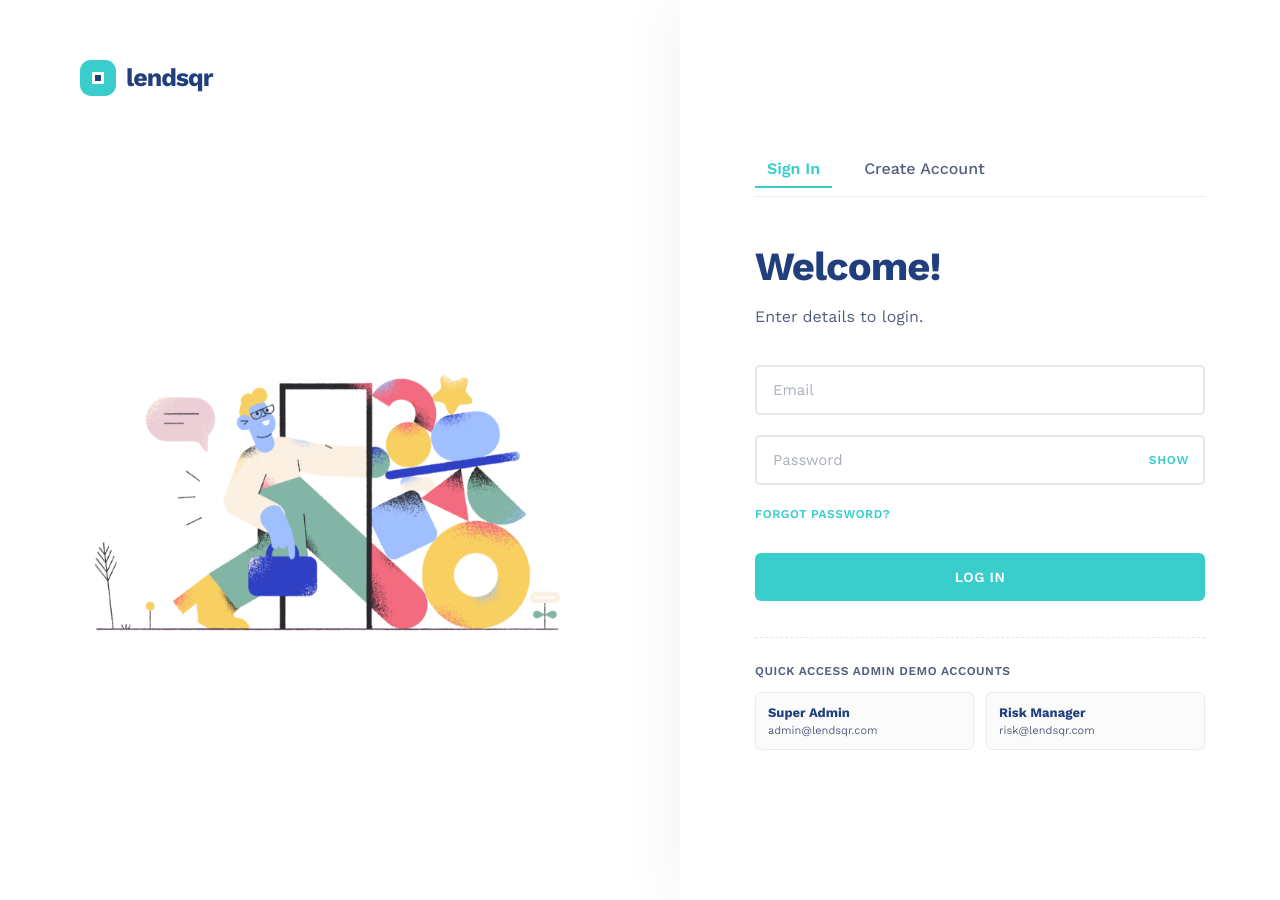
Test case: Login Page › shows error when password is too short
This screenshot has width=1280, height=900.
Type "test@example.com" into the field with placeholder "Email". click: (980, 390)
box: top-left (755, 364), bottom-right (1205, 414)
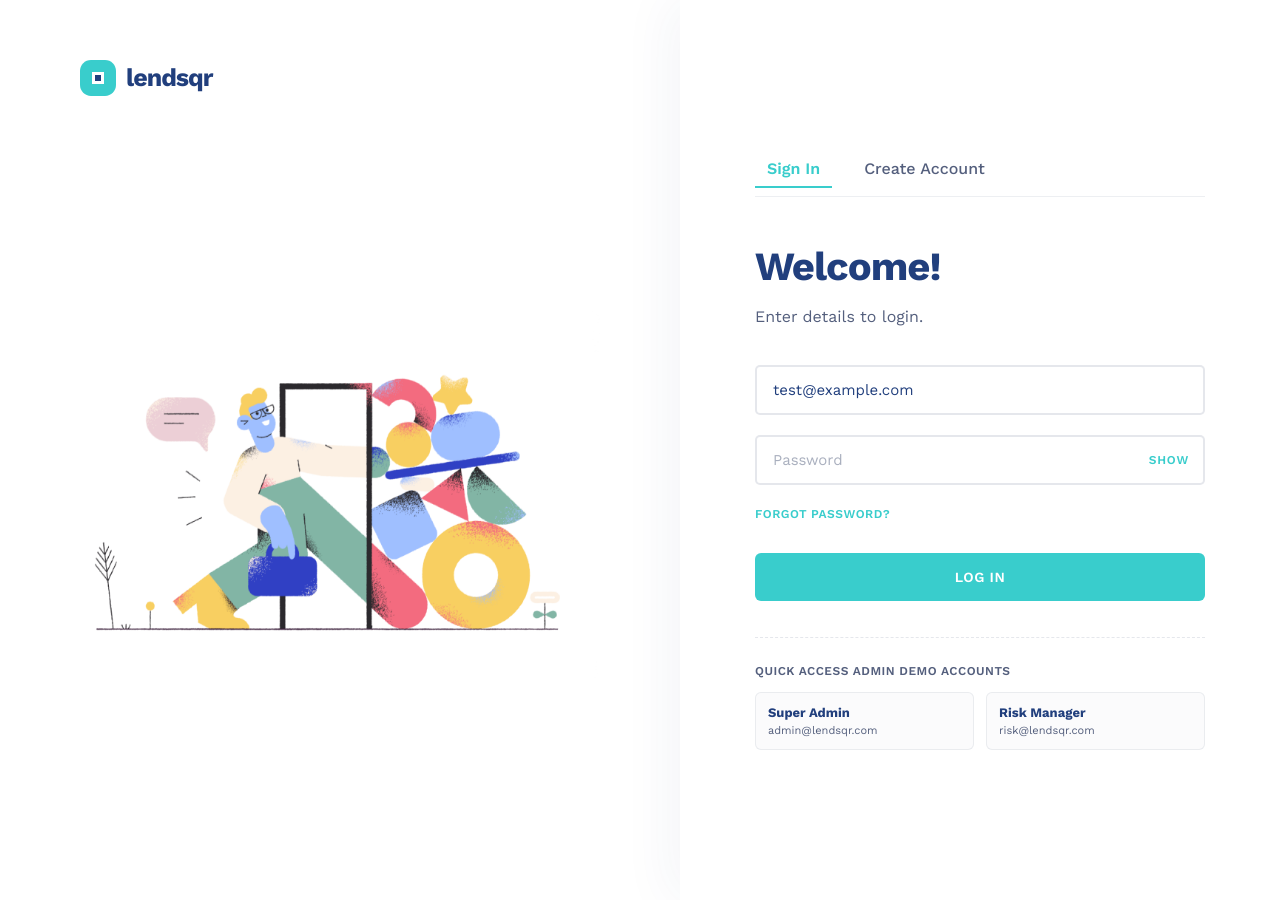
Type "pass" into the password field with placeholder "Password". click: (980, 460)
box: top-left (755, 434), bottom-right (1205, 484)
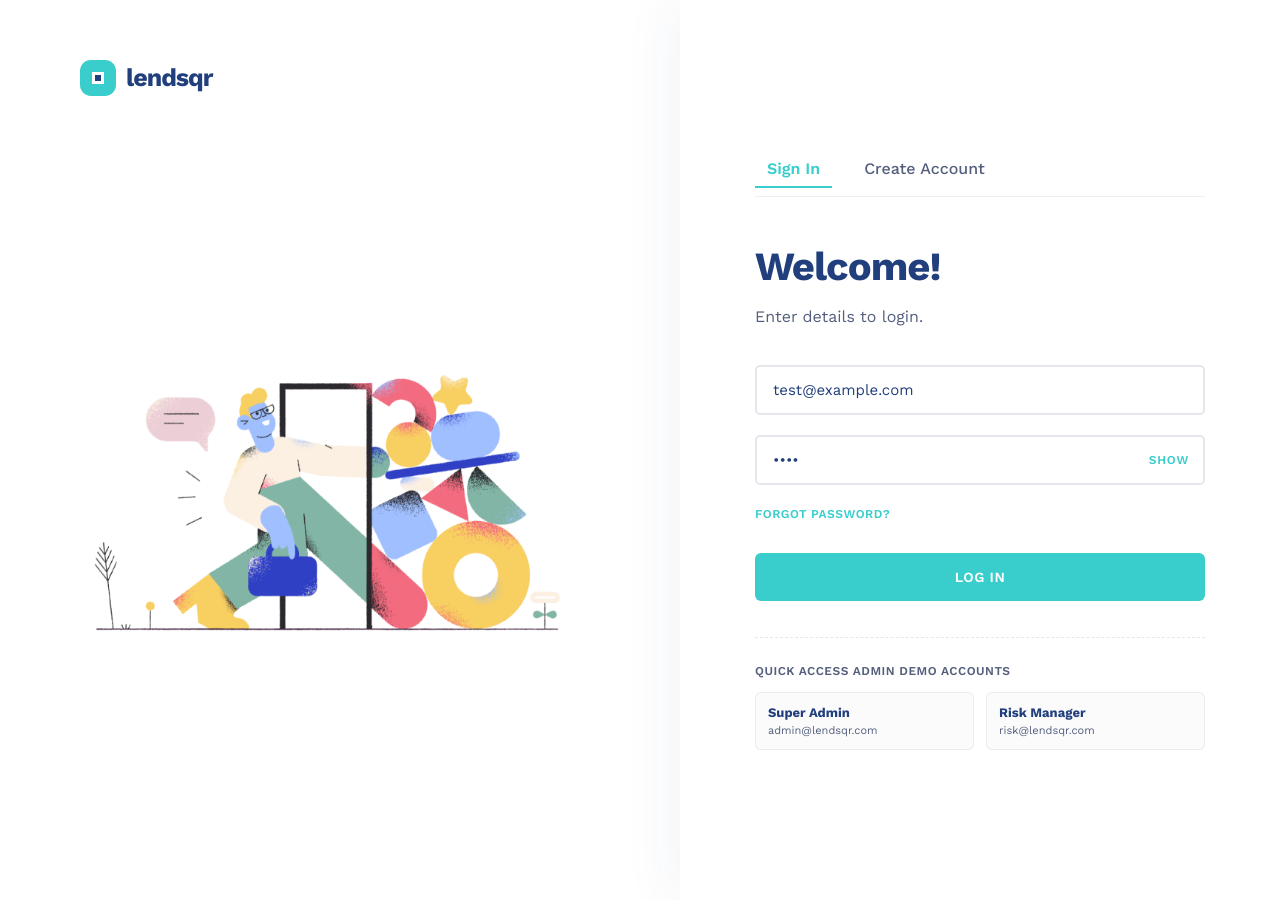
Click the button "LOG IN". click: (980, 576)
box: top-left (755, 552), bottom-right (1205, 600)
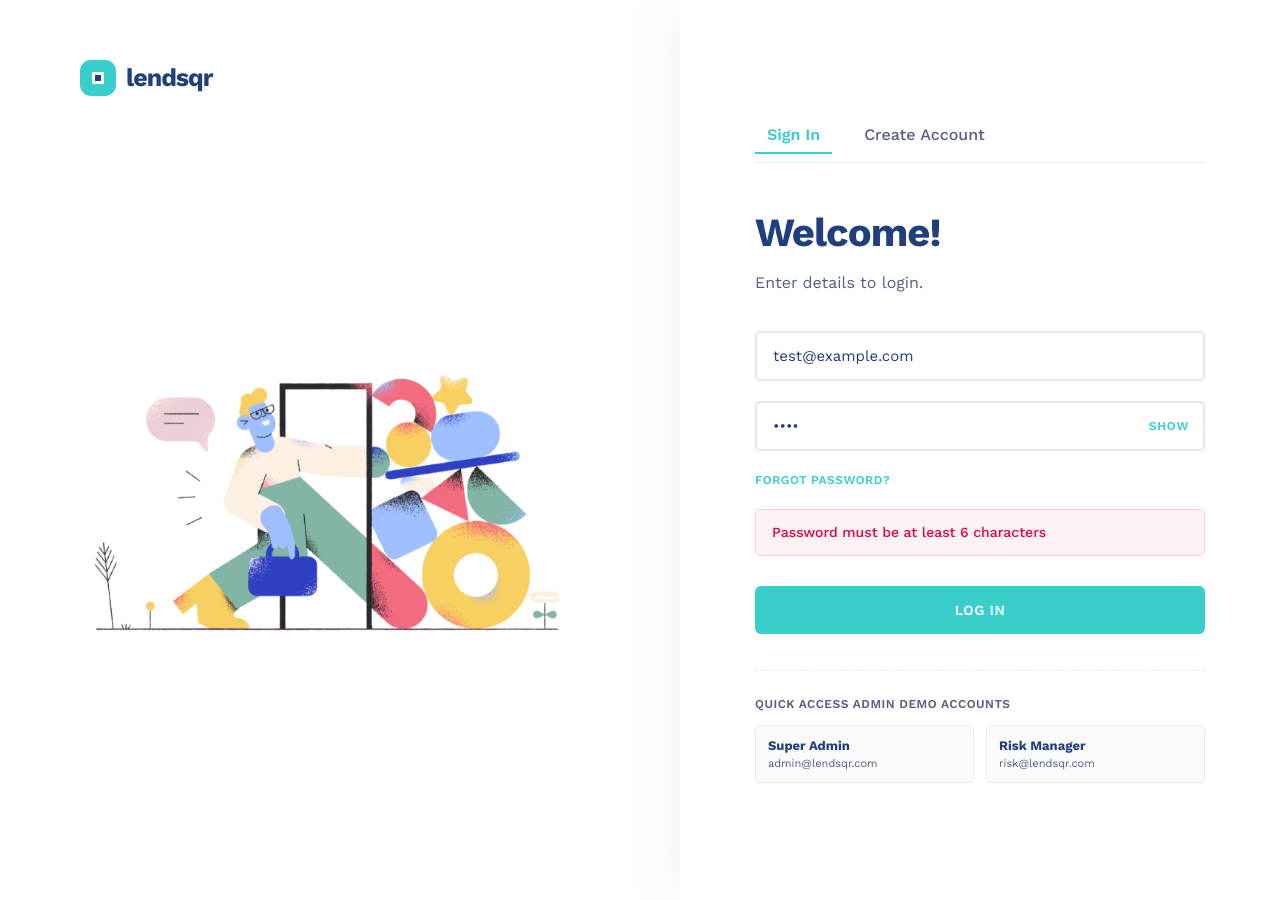
Check: the text "Password must be at least 6 characters" is shown, box top-left (755, 509), bottom-right (1205, 556)
